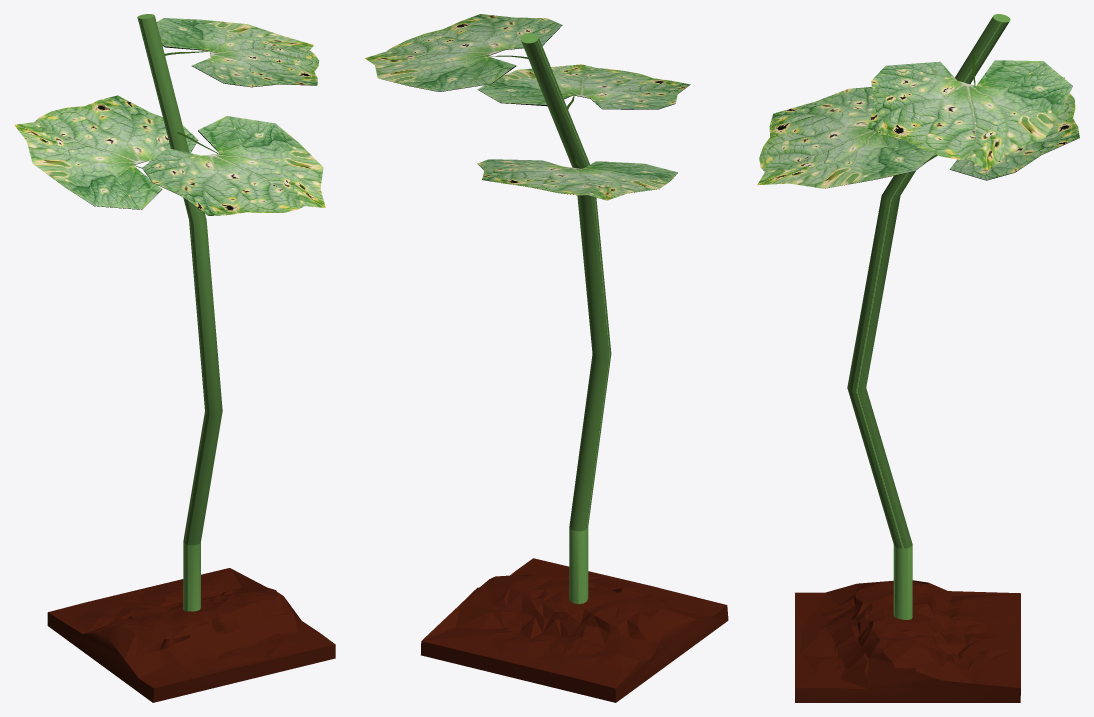
Rendered from bedeng_timun_1.obj.
The picture shows the model from 3 angles, left to right: view 1: azimuth 30°, elevation 25°; view 2: azimuth 150°, elevation 25°; view 3: azimuth 270°, elevation 25°; orthographic projection. The views are drawn at different scales.
Parts seen in each view (by area): view 1: batang_Cylinder, PP_Meadow_Path_05_Scene.1042; view 2: batang_Cylinder, PP_Meadow_Path_05_Scene.1042; view 3: batang_Cylinder, PP_Meadow_Path_05_Scene.1042.
Boxes of the visible parts, left/top/right/bottom form: batang_Cylinder: left=14, top=14, right=325, bottom=611; PP_Meadow_Path_05_Scene.1042: left=47, top=568, right=335, bottom=702; batang_Cylinder: left=365, top=14, right=690, bottom=604; PP_Meadow_Path_05_Scene.1042: left=421, top=558, right=728, bottom=702; batang_Cylinder: left=757, top=14, right=1079, bottom=619; PP_Meadow_Path_05_Scene.1042: left=795, top=580, right=1020, bottom=702.
Size of the model in its own units: 1.53 by 3.11 by 1.43.
